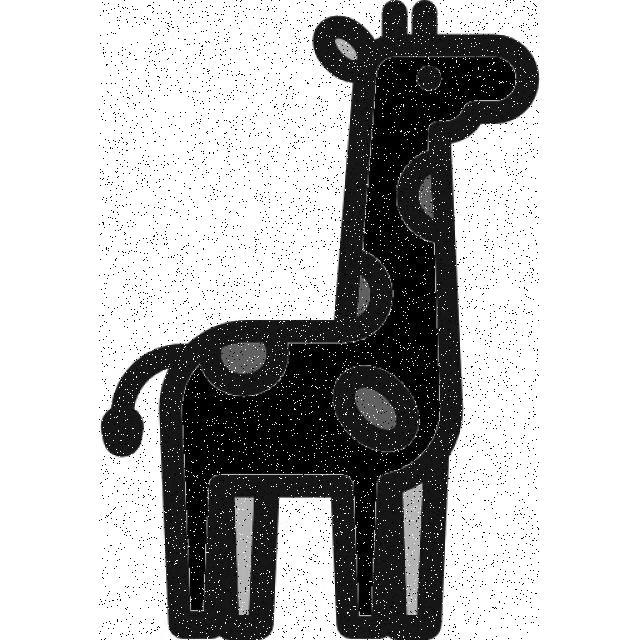girafe: (100, 1, 540, 640)
